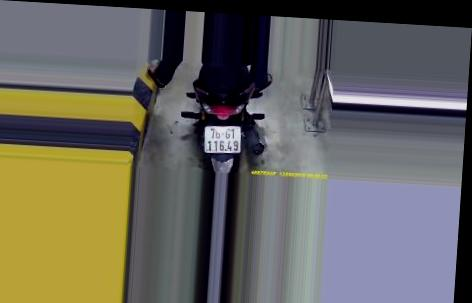License_Plate: (201, 124, 247, 155)
